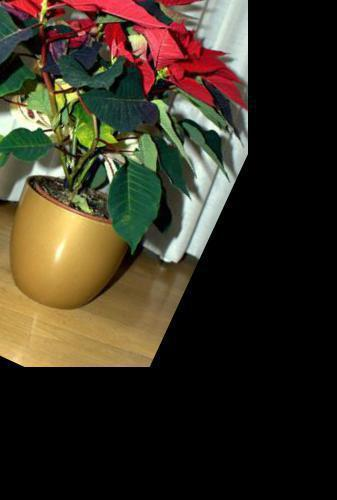Matera: (0, 0, 296, 360)
